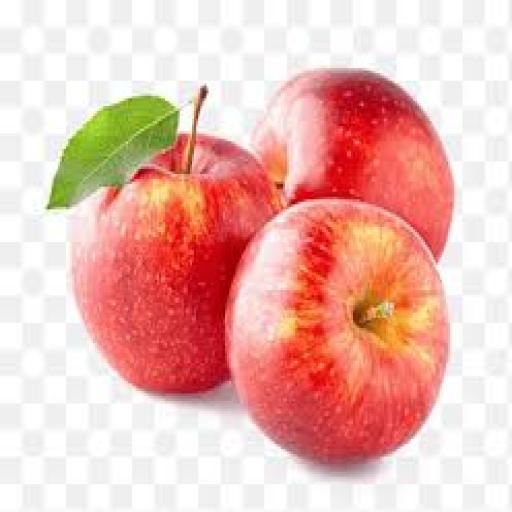apple: (228, 200, 447, 461), (73, 132, 278, 393), (252, 69, 454, 259)
